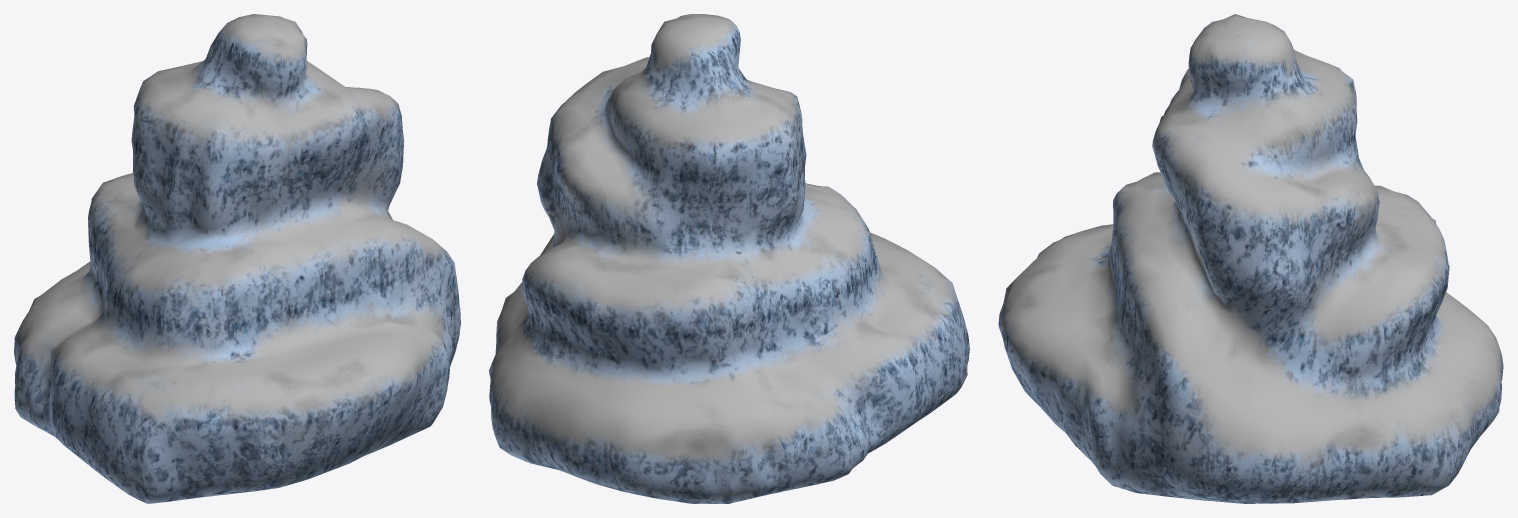
Rendered from iceberg.glb.
3 renders of one model, left to right at view 1: azimuth 30°, elevation 25°; view 2: azimuth 150°, elevation 25°; view 3: azimuth 270°, elevation 25°, orthographic. The views are drawn at different scales.
Parts seen in each view (by area): view 1: iceberg_5_LP; view 2: iceberg_5_LP; view 3: iceberg_5_LP.
Part boxes in pixels (x1,y1,x2,y2): iceberg_5_LP: (14,14,460,503); iceberg_5_LP: (489,14,969,503); iceberg_5_LP: (998,14,1503,503).
Bounding box in the file's own units: 5.44 × 5.26 × 5.62.
Materials: 1 (1 with a texture image).
